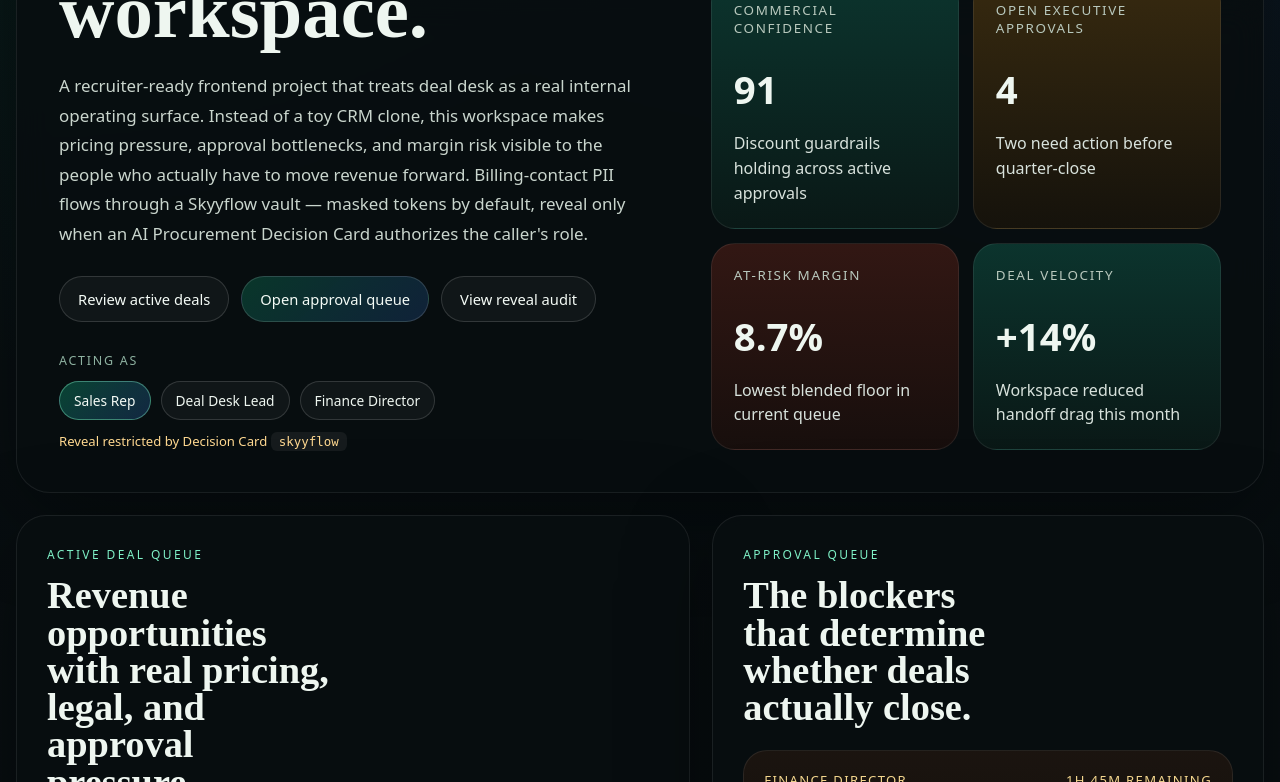
Test: Deal Desk Workspace › reveals raw PII when the user switches to Finance Director
(page scrolled)
Step 1. Click the button "Finance Director" → (367,401), box [300, 381, 435, 420]
(page scrolled)
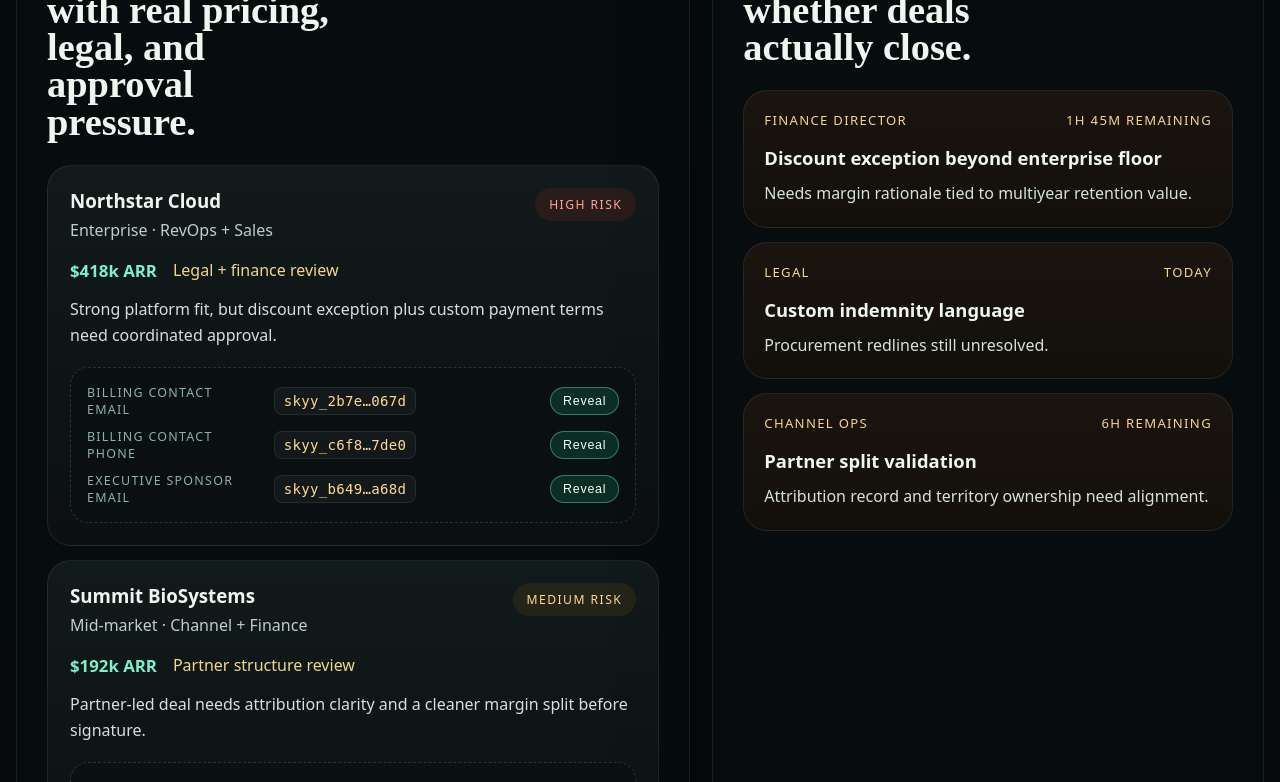
Step 2. Click the button with aria-label "reveal billing contact email" → (585,401), box [550, 387, 619, 415]
(page scrolled)
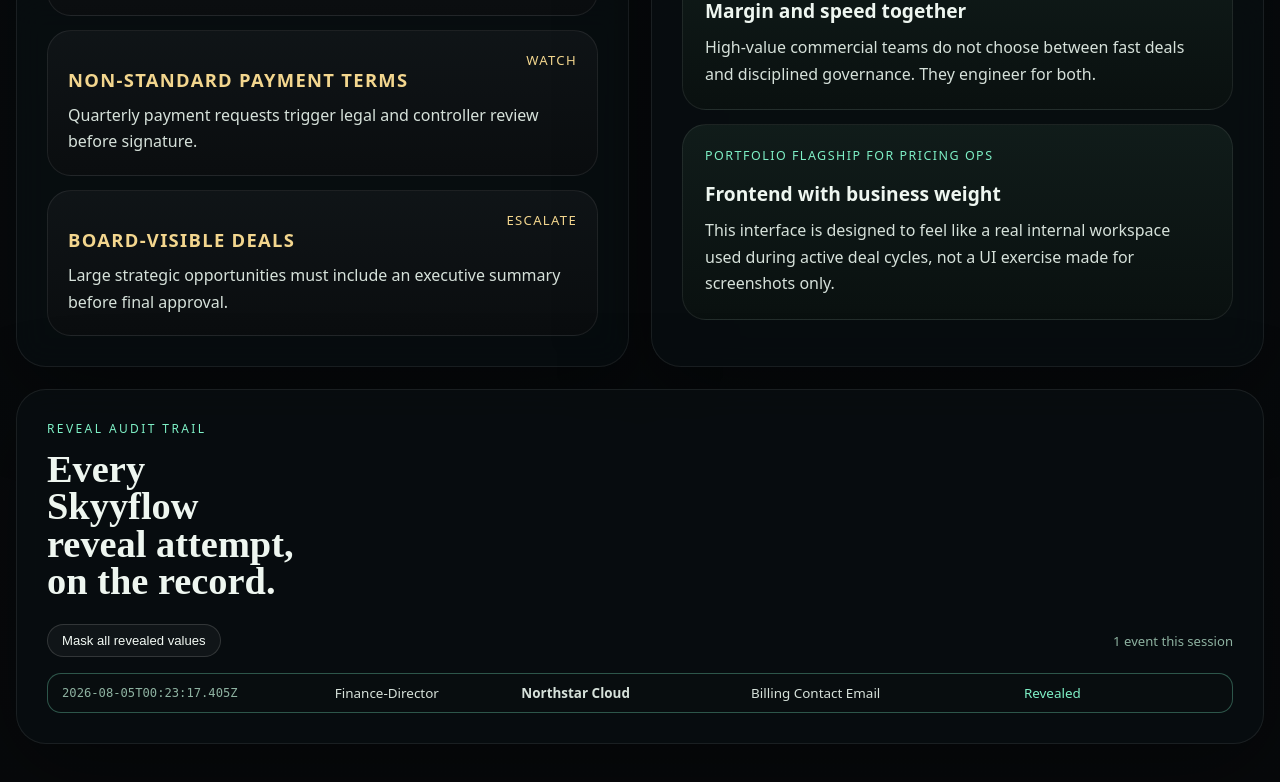
Expected: the text "Reveal audit trail" is shown, [47, 420, 206, 437]
Result: the text "revealed" is shown at [1024, 684, 1081, 702]
